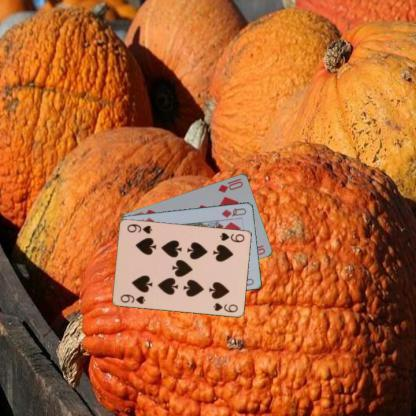10d: (216, 176, 245, 193)
9s: (118, 291, 147, 305), (218, 230, 245, 243)
Qd: (219, 205, 247, 219)
